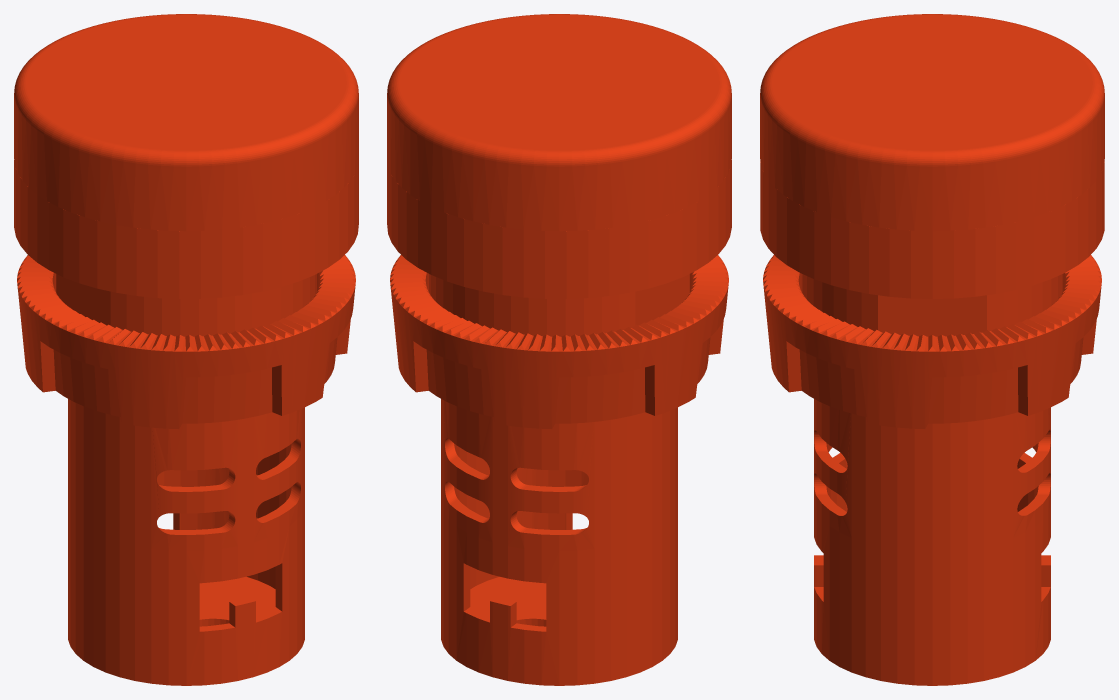
Rendered from lightbackRed.dae.
The picture shows the model from 3 angles, left to right: view 1: azimuth 30°, elevation 25°; view 2: azimuth 150°, elevation 25°; view 3: azimuth 270°, elevation 25°; orthographic projection.
Visible parts, largest first — view 1: redLight; view 2: redLight; view 3: redLight.
Part boxes in pixels (<box>): redLight: <box>14,14,358,685</box>; redLight: <box>387,14,731,685</box>; redLight: <box>760,14,1104,685</box>.
Size of the model in its own units: 0.029 by 0.029 by 0.0513.
